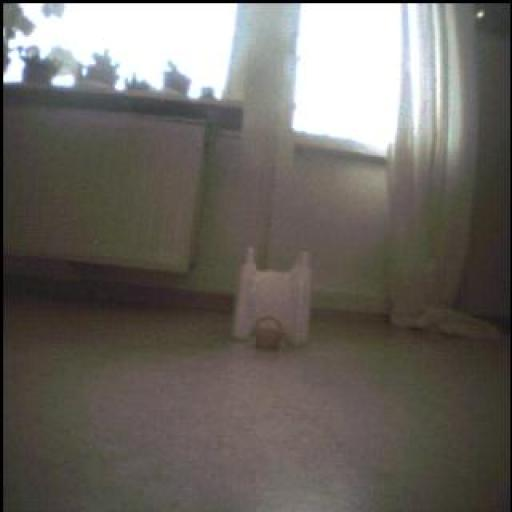Basket: (254, 318, 286, 351)
